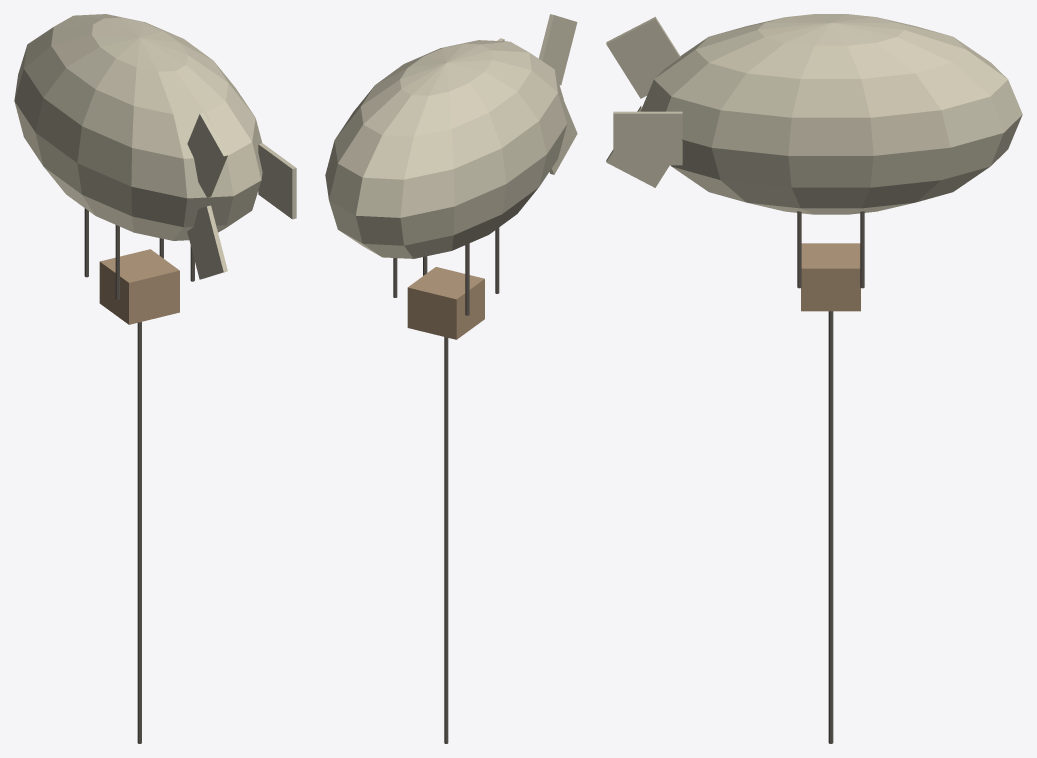
Rendered from enemy-balloon.glb.
The picture shows the model from 3 angles, left to right: view 1: azimuth 30°, elevation 25°; view 2: azimuth 150°, elevation 25°; view 3: azimuth 270°, elevation 25°; orthographic projection. The views are drawn at different scales.
Parts seen in each view (by area): view 1: enemy-balloon; view 2: enemy-balloon; view 3: enemy-balloon.
Part boxes in pixels (<box>): enemy-balloon: <box>14,14,296,743</box>; enemy-balloon: <box>325,14,577,743</box>; enemy-balloon: <box>606,14,1022,743</box>.
Size of the model in its own units: 3.12 by 12.6 by 6.6.
